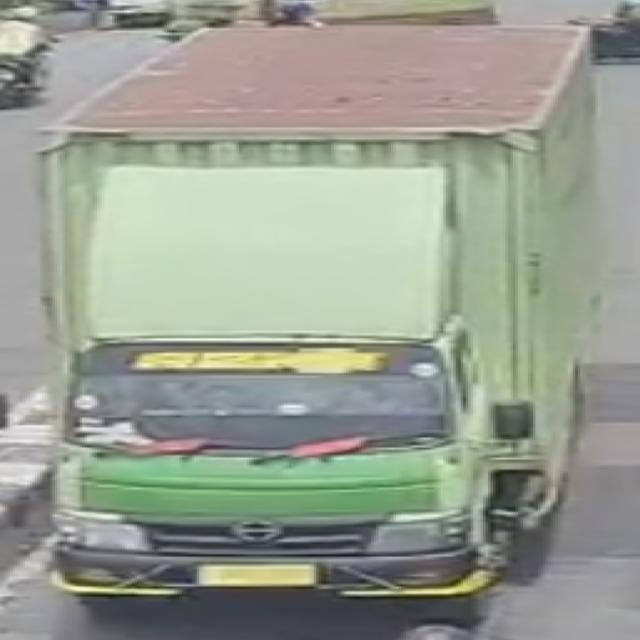Truck: (39, 37, 597, 618)
